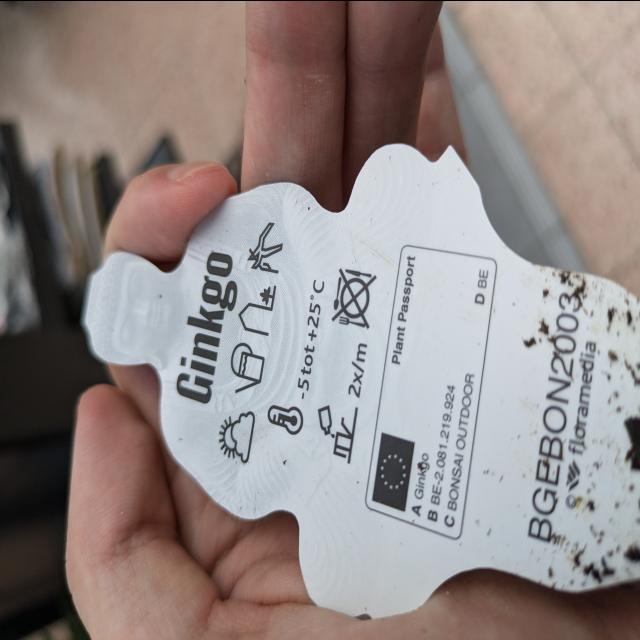dungen: (312, 334, 372, 470)
halb sonnig schattig: (214, 404, 258, 465)
viel giesen: (224, 339, 266, 395)
